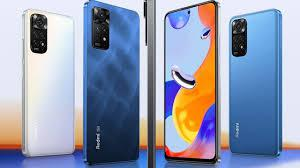Smartphone: (163, 3, 219, 168), (229, 5, 283, 157), (21, 5, 75, 156), (86, 0, 136, 163), (147, 1, 156, 168)
